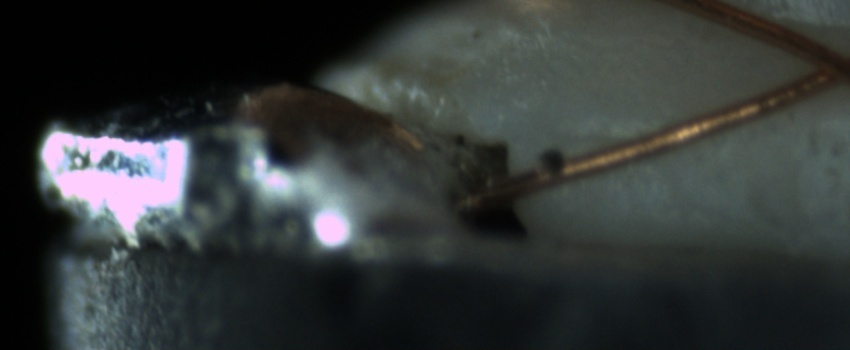CL: (792, 33, 848, 92)
